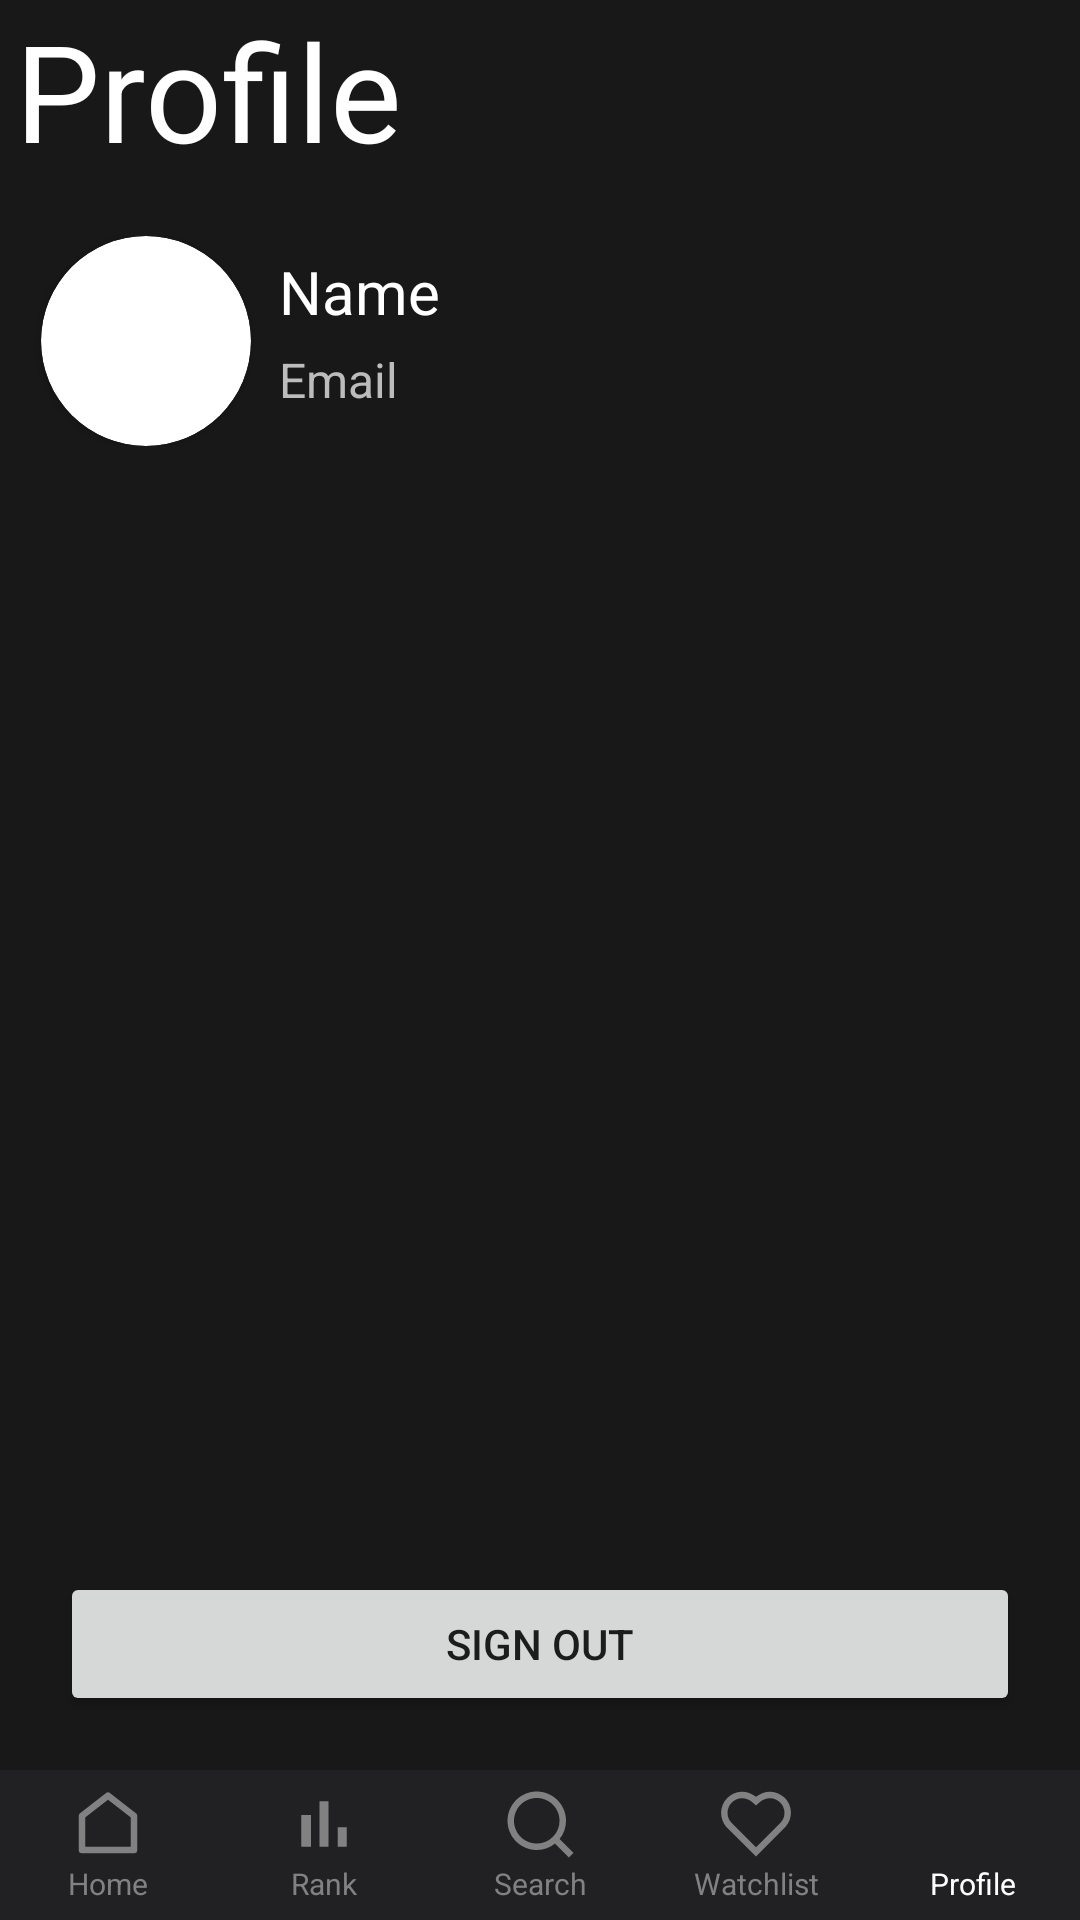

Where to tap for icons on this 1080 × 1920 app screen, as (x=x, y=y):
love: (x=756, y=1824)
